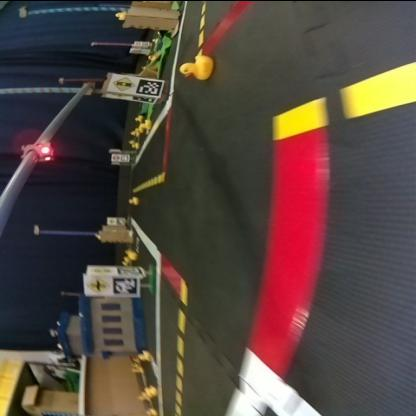Duckie: (180, 54, 214, 78)
QR code: (136, 76, 162, 94), (112, 276, 137, 292)
Signal sign: (110, 76, 134, 90)
Traffic light: (18, 140, 56, 160)
